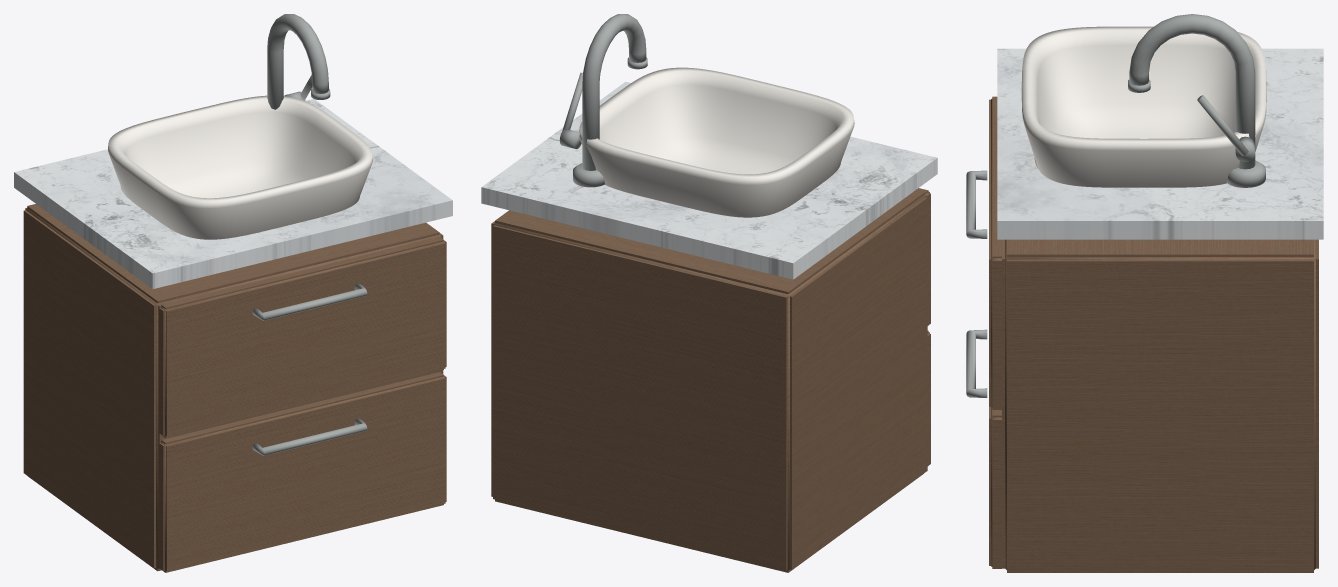
File: industrial.wall_vanity.gltf
The picture shows the model from 3 angles, left to right: view 1: azimuth 30°, elevation 25°; view 2: azimuth 150°, elevation 25°; view 3: azimuth 270°, elevation 25°; orthographic projection. The views are drawn at different scales.
Parts seen in each view (by area): view 1: industrial.wall_vanity.wall-hung-cabinet; view 2: industrial.wall_vanity.wall-hung-cabinet; view 3: industrial.wall_vanity.wall-hung-cabinet.
Part boxes in pixels (x1,y1,x2,y2): industrial.wall_vanity.wall-hung-cabinet: [14, 14, 452, 572]; industrial.wall_vanity.wall-hung-cabinet: [481, 14, 937, 572]; industrial.wall_vanity.wall-hung-cabinet: [966, 14, 1323, 572].
Bounding box in the file's own units: 0.5 × 0.7052 × 0.438.
Materials: 4 (2 with a texture image).
